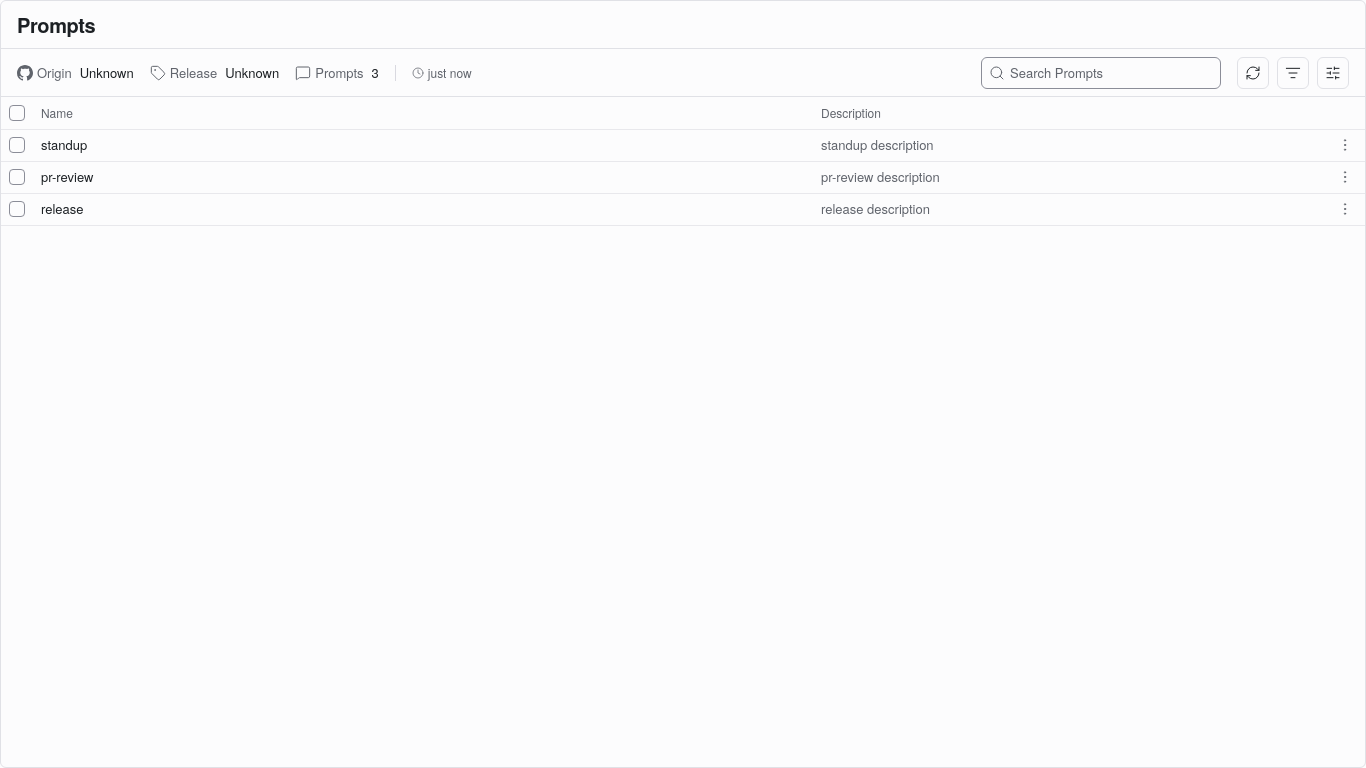
Test case: Set category on Prompts › the selection bar › holds Set category only
The image size is (1366, 768).
Click the checkbox named "Select standup".
click(17, 145)  # box [9,137,25,153]
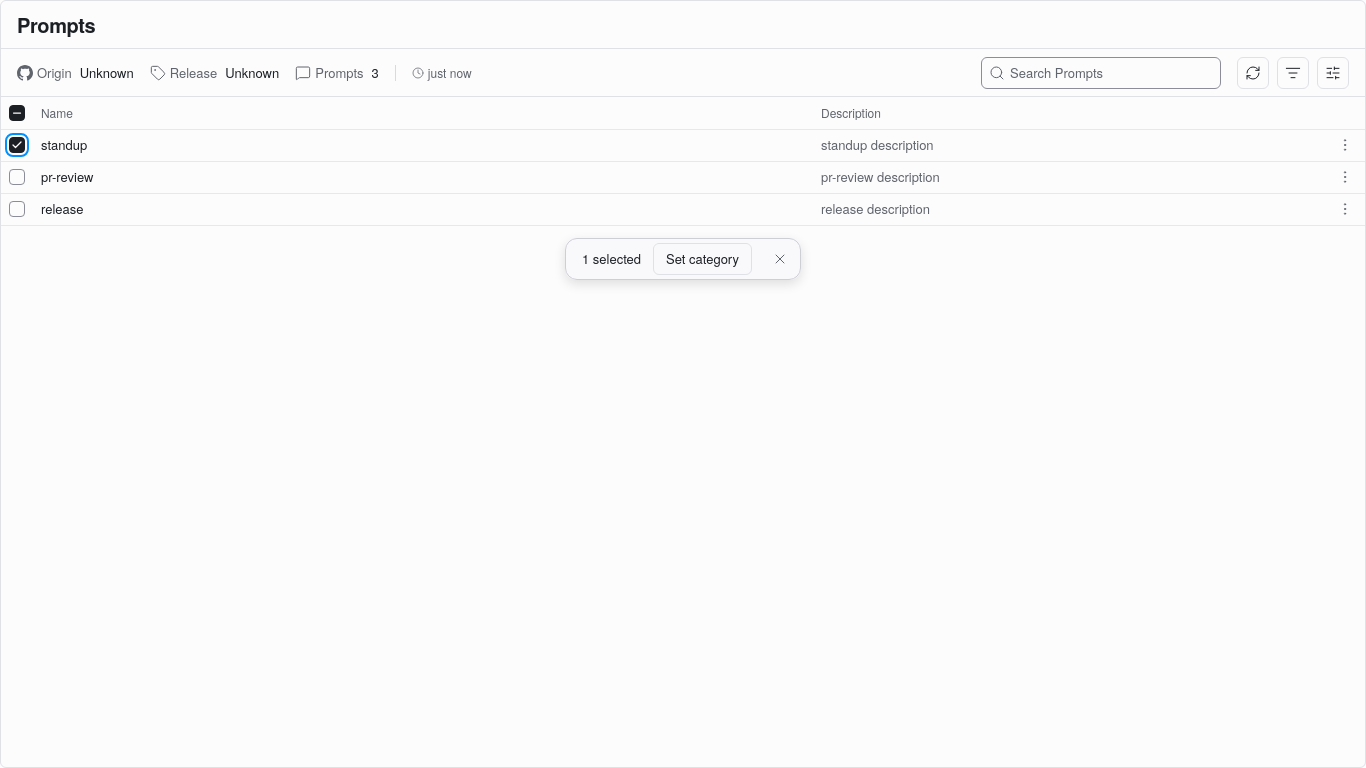
Result: the buttons read "Set category", "", in this order at [653,242,752,274]; [764,242,796,274]
Result: the button named "Clear selection" is shown at [764,242,796,274]
